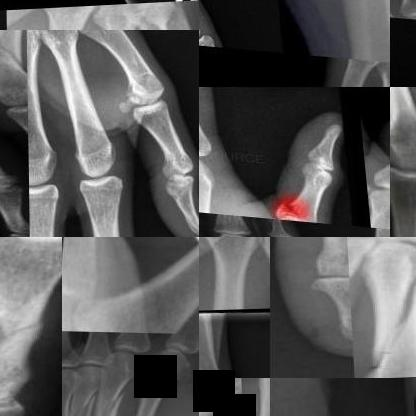fracture: (0, 272, 60, 392), (360, 266, 415, 377), (0, 30, 29, 86), (199, 378, 243, 414), (263, 184, 309, 217), (98, 390, 139, 415), (69, 391, 107, 415), (6, 11, 38, 29)
